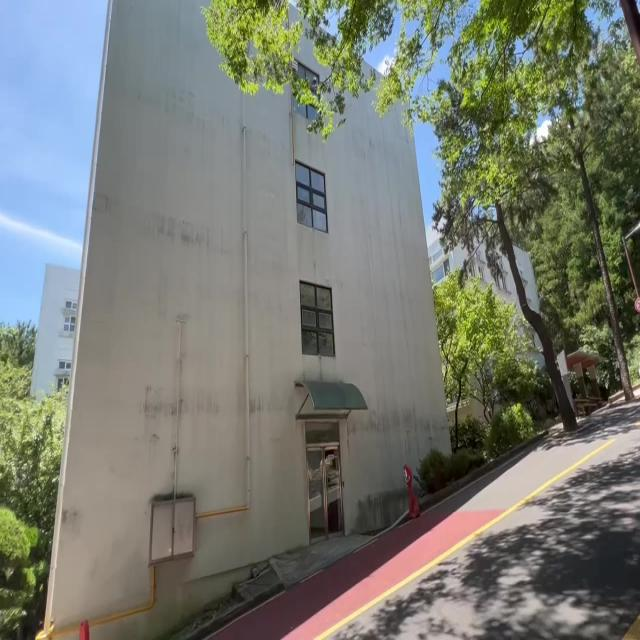building: (54, 126, 439, 561)
